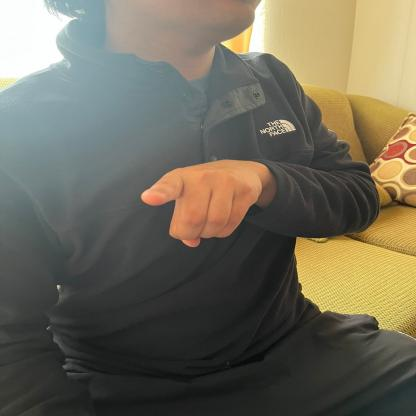X: (140, 154, 266, 254)
